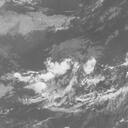cyclone: (43, 53, 116, 114)
